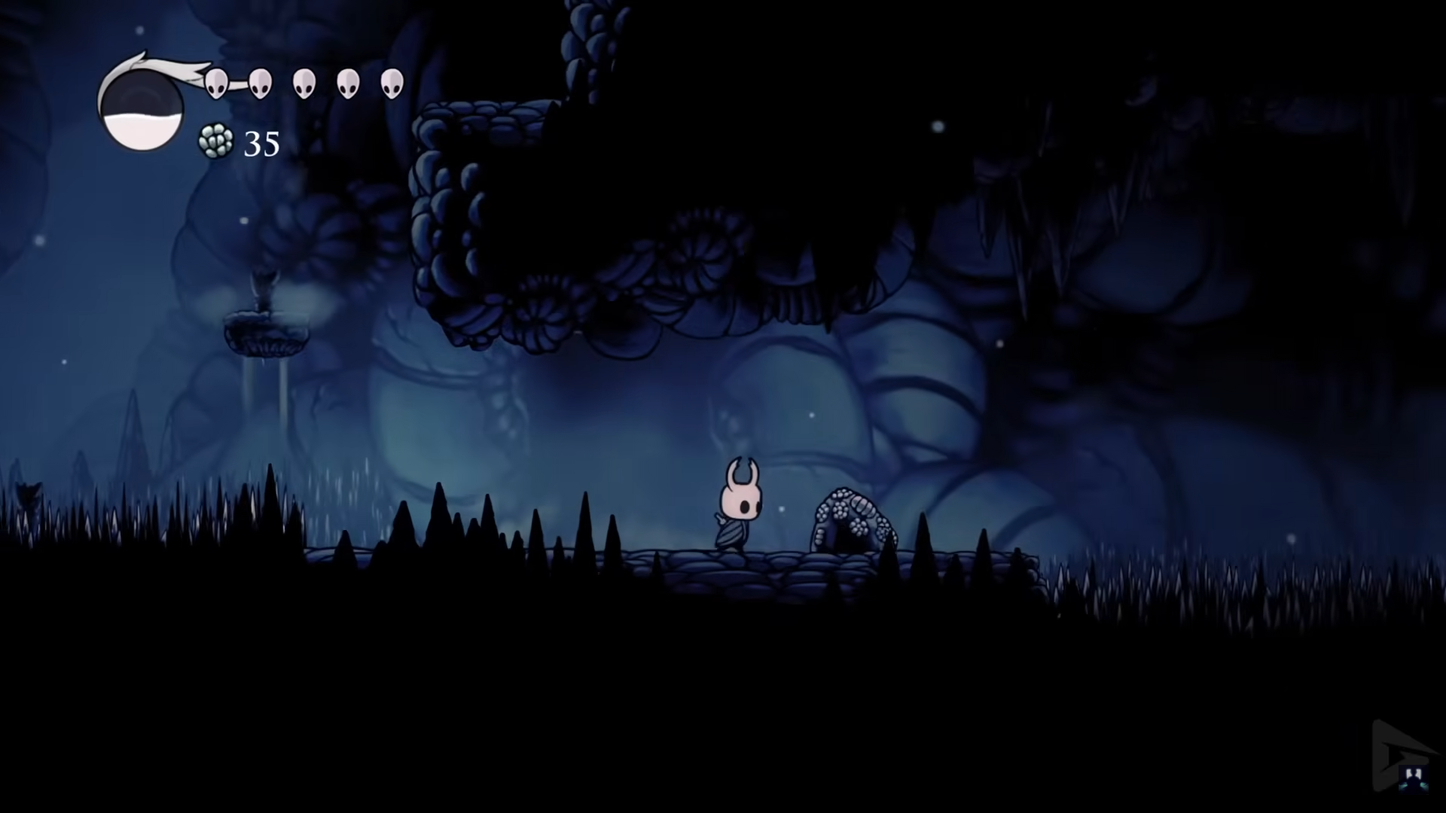HK: (712, 452, 767, 553)
